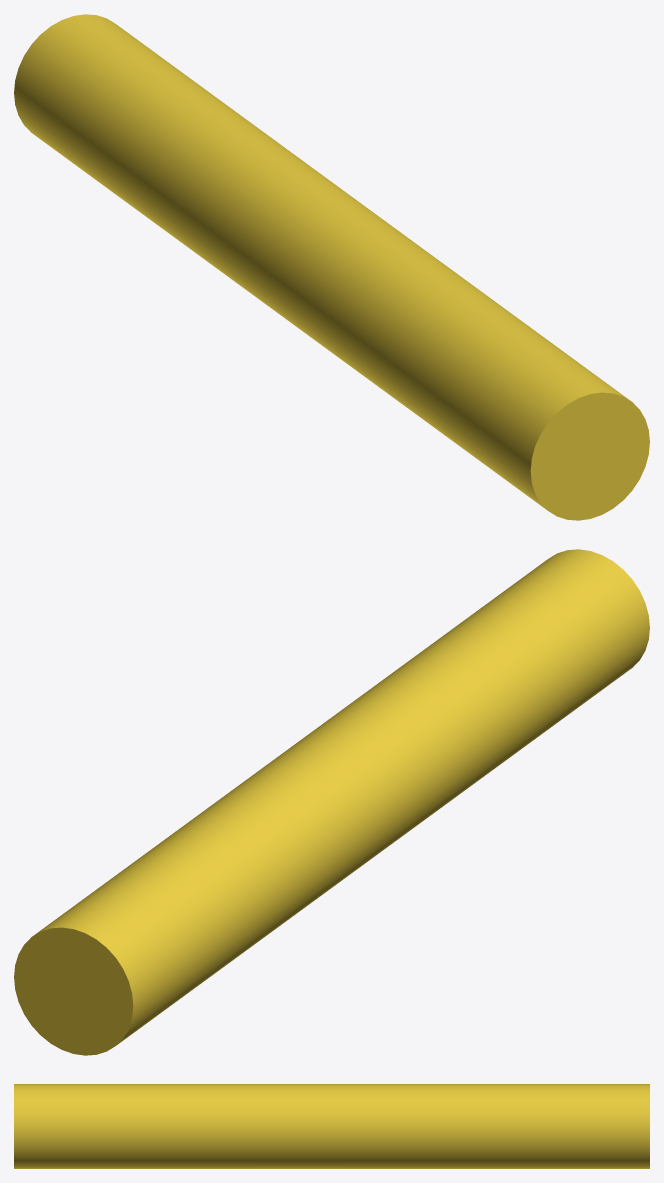
The model's file is BigCylinder.fbx.
The picture shows the model from 3 angles, top to bottom: view 1: azimuth 30°, elevation 25°; view 2: azimuth 150°, elevation 25°; view 3: azimuth 270°, elevation 25°; orthographic projection. The views are drawn at different scales.
Parts seen in each view (by area): view 1: BigCylinder_low; view 2: BigCylinder_low; view 3: BigCylinder_low.
Boxes of the visible parts, <box> form: BigCylinder_low: <box>14,14,649,520</box>; BigCylinder_low: <box>14,549,649,1055</box>; BigCylinder_low: <box>14,1084,649,1168</box>.
Bounding box in the file's own units: 40 × 40 × 300.
